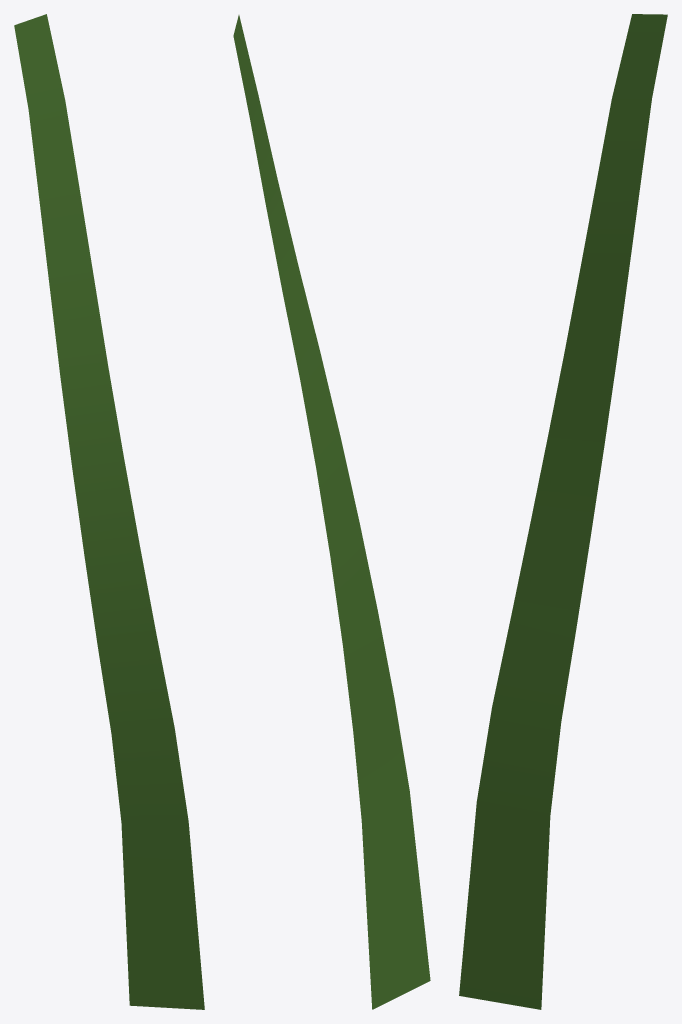
File: plant_swamp_kelp_giant_B_solo_H.fbx
3 views of the same model, side by side, from view 1: azimuth 90°, elevation 25°; view 2: azimuth 150°, elevation 25°; view 3: azimuth 270°, elevation 25° (orthographic). The views are drawn at different scales.
Parts seen in each view (by area): view 1: plant_swamp_kelp_giant_B_solo_H; view 2: plant_swamp_kelp_giant_B_solo_H; view 3: plant_swamp_kelp_giant_B_solo_H.
Part boxes in pixels (<box>): plant_swamp_kelp_giant_B_solo_H: <box>14,14,204,1009</box>; plant_swamp_kelp_giant_B_solo_H: <box>233,15,430,1009</box>; plant_swamp_kelp_giant_B_solo_H: <box>459,14,667,1009</box>.
Bounding box in the file's own units: 21.63 × 193 × 35.05.
